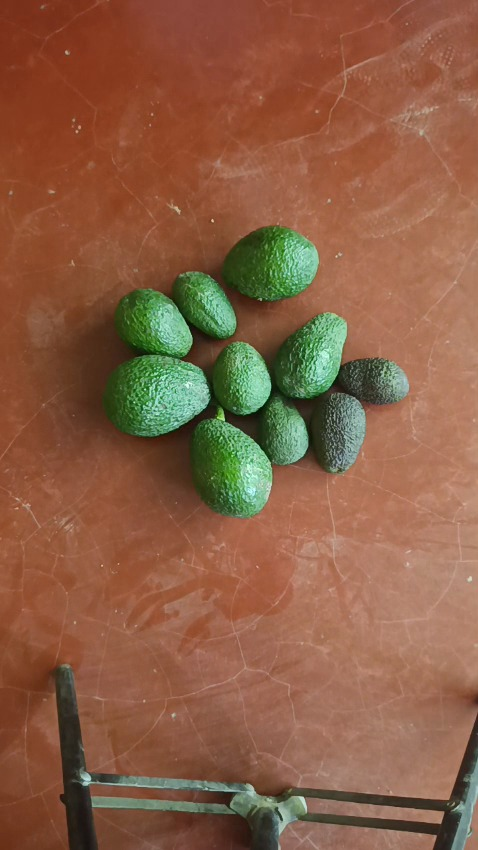Primera: (102, 355, 212, 437), (190, 408, 273, 515)
Segunda: (222, 226, 319, 302), (272, 313, 348, 400)
Tercera: (113, 288, 194, 360), (309, 391, 366, 473), (211, 341, 273, 416), (171, 271, 237, 341), (257, 391, 307, 465), (336, 357, 409, 405)
